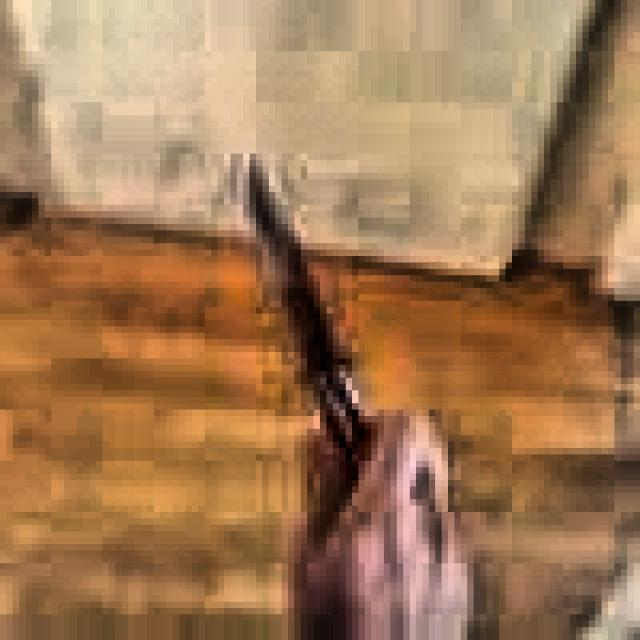knife: (252, 164, 374, 480)
